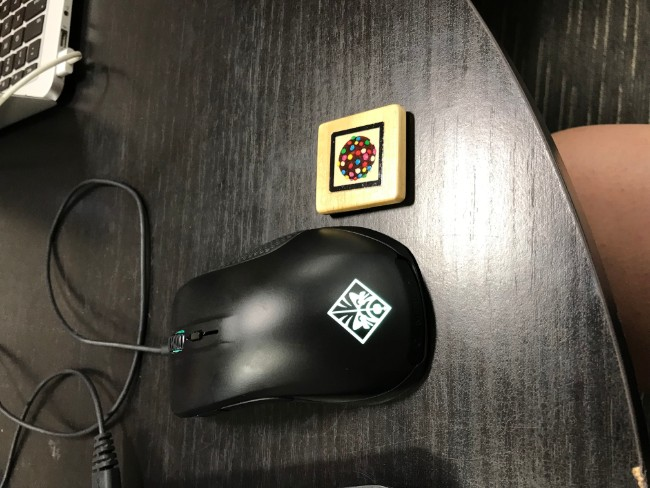cookie: (329, 120, 383, 193)
